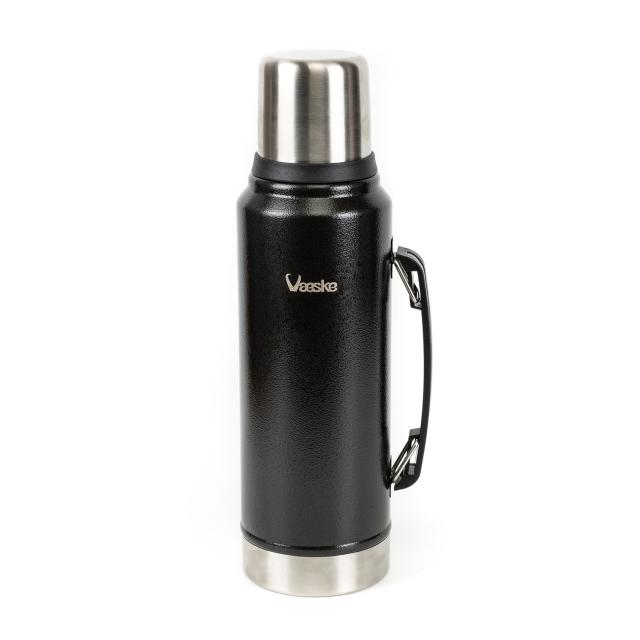Termos: (234, 52, 434, 596)
